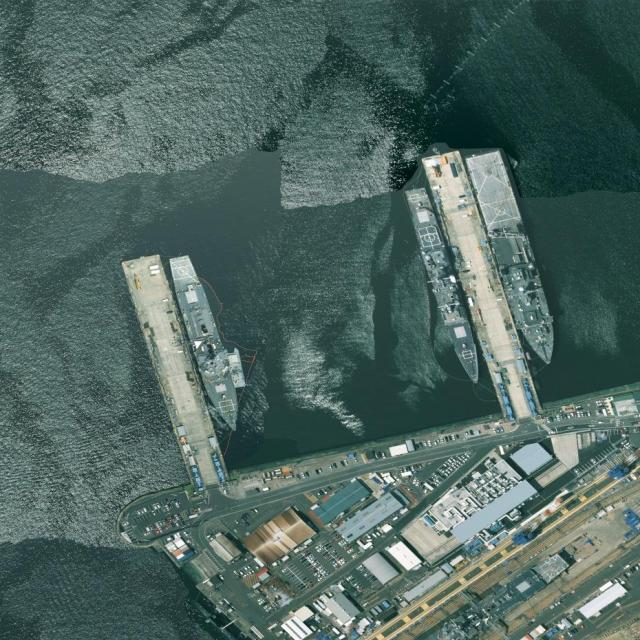Cruiser: (398, 185, 489, 390)
Destroyer: (165, 251, 248, 436)
Dock: (422, 147, 540, 420), (120, 248, 229, 489)
Landing: (463, 145, 565, 371)
